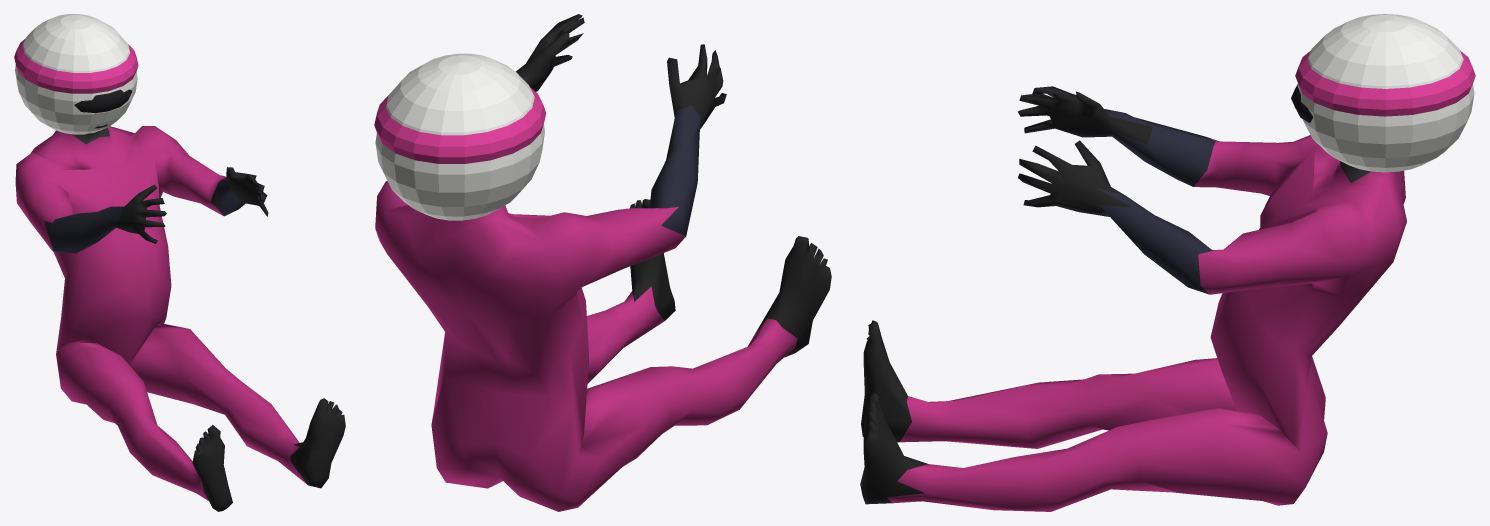
The model's file is driver_90.glb.
3 views of the same model, side by side, from view 1: azimuth 30°, elevation 25°; view 2: azimuth 150°, elevation 25°; view 3: azimuth 270°, elevation 25° (orthographic). The views are drawn at different scales.
Visible parts, largest first — view 1: driver_90 people, driver_90; view 2: driver_90 people, driver_90; view 3: driver_90 people, driver_90.
Part boxes in pixels (<box>): driver_90 people: <box>15,124,345,511</box>; driver_90: <box>14,14,138,134</box>; driver_90 people: <box>375,14,831,511</box>; driver_90: <box>374,53,546,220</box>; driver_90 people: <box>860,86,1406,511</box>; driver_90: <box>1291,14,1475,172</box>.
Bounding box in the file's own units: 0.5243 × 0.9272 × 1.12.
